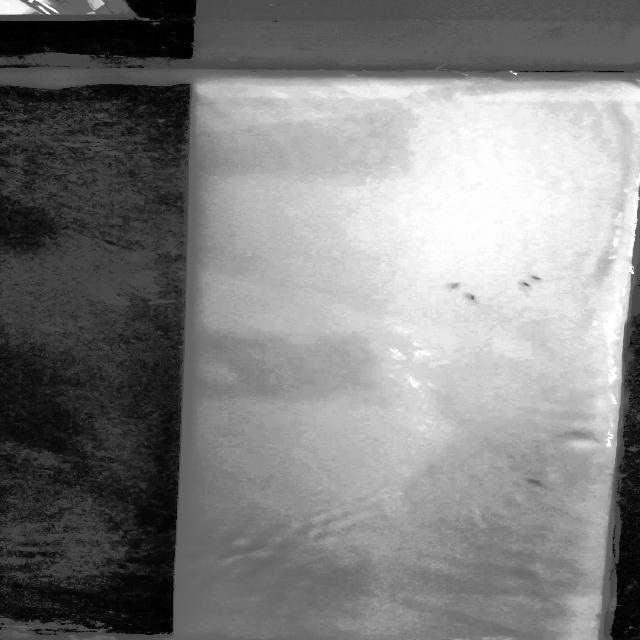shrimp: (445, 280, 469, 293), (466, 292, 488, 306), (514, 280, 538, 292), (524, 474, 548, 485), (523, 274, 549, 284)
